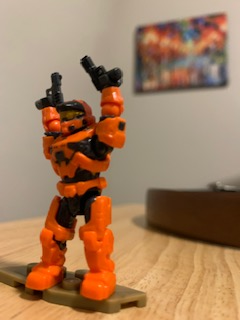pistol: (78, 53, 124, 94), (33, 68, 65, 109)
spartan: (21, 67, 127, 300)
up: (37, 72, 127, 177)
